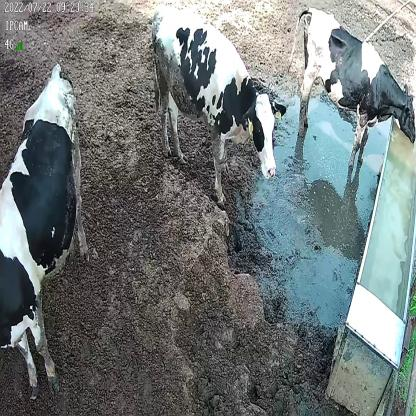cow: (0, 56, 91, 398), (150, 4, 286, 206), (287, 7, 416, 175)
